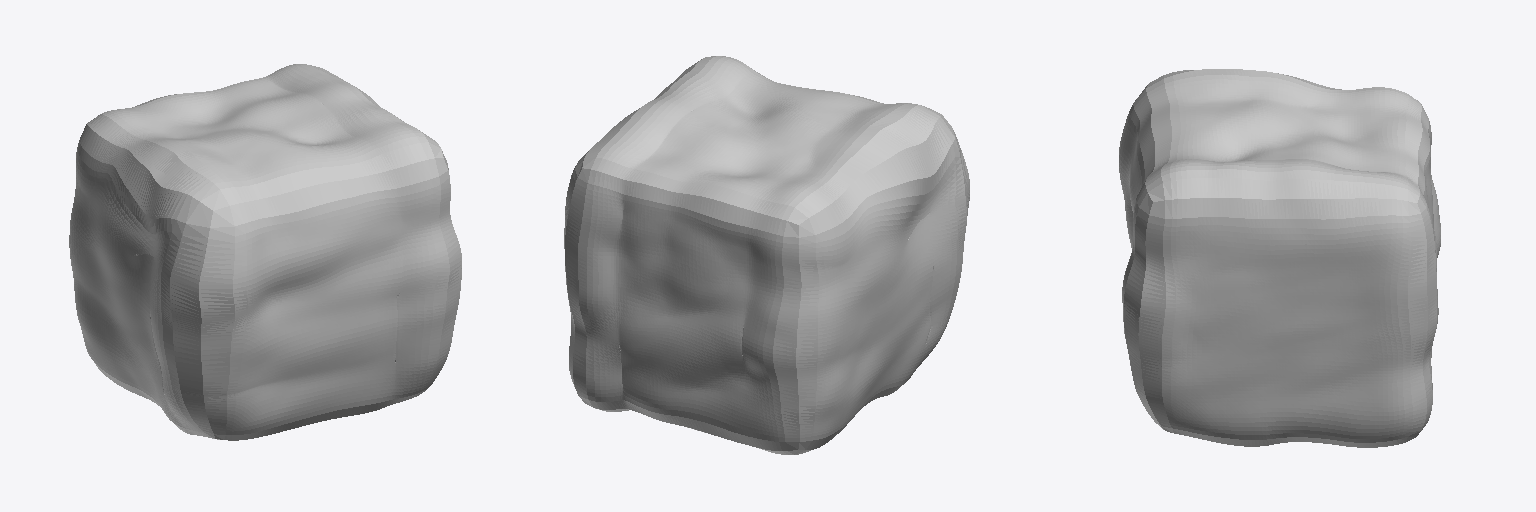
The model's file is HURTCUBE.obj.
3 renders of one model, left to right at view 1: azimuth 30°, elevation 25°; view 2: azimuth 150°, elevation 25°; view 3: azimuth 270°, elevation 25°, orthographic.
Parts seen in each view (by area): view 1: Cube; view 2: Cube; view 3: Cube.
Boxes of the visible parts, x1,y1,x2,y2 form: Cube: [69, 64, 461, 440]; Cube: [564, 56, 969, 454]; Cube: [1119, 69, 1440, 447].
Size of the model in its own units: 2.91 by 2.71 by 2.85.